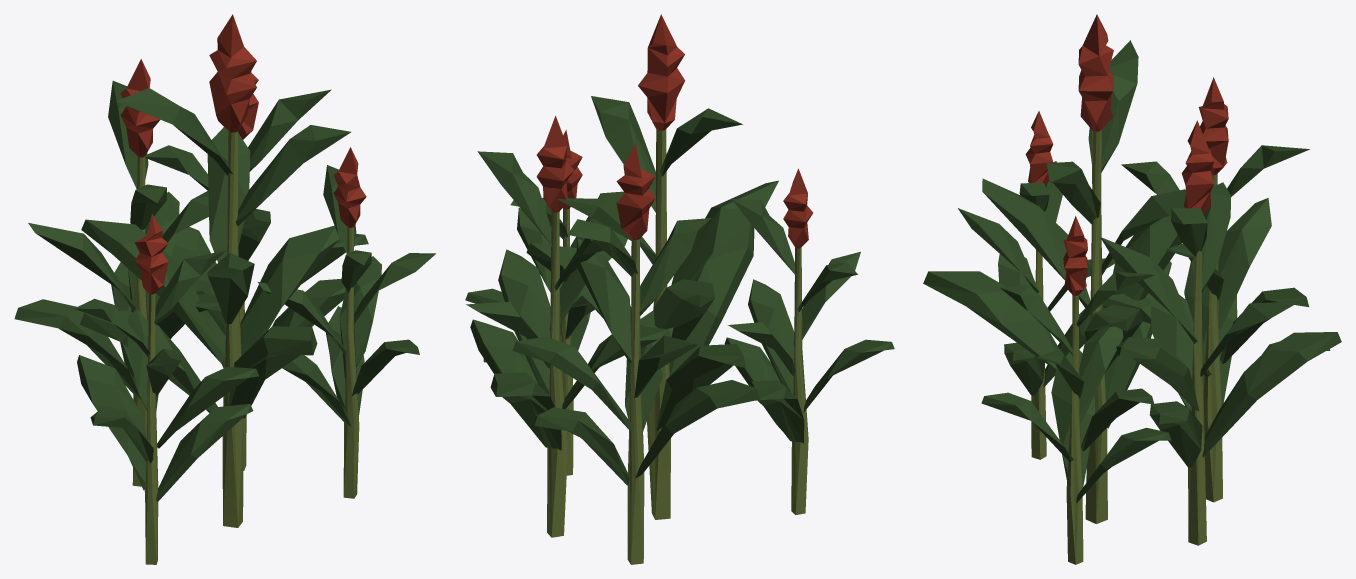
The model's file is SM_Env_Flowers_02.glb.
The picture shows the model from 3 angles, left to right: view 1: azimuth 30°, elevation 25°; view 2: azimuth 150°, elevation 25°; view 3: azimuth 270°, elevation 25°; orthographic projection.
Visible parts, largest first — view 1: SM_Env_Flowers_02; view 2: SM_Env_Flowers_02; view 3: SM_Env_Flowers_02.
Boxes of the visible parts, x1,y1,x2,y2 form: SM_Env_Flowers_02: (14,14,435,564); SM_Env_Flowers_02: (465,14,894,564); SM_Env_Flowers_02: (923,14,1341,564).
Size of the model in its own units: 0.0124 by 0.0166 by 0.0125.
